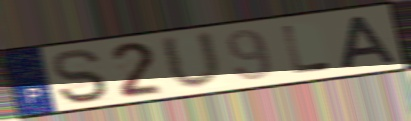2: (109, 40, 165, 100)
9: (224, 28, 275, 83)
A: (338, 13, 401, 72)
L: (279, 23, 335, 76)
S: (49, 47, 111, 106)
U: (157, 29, 226, 92)
